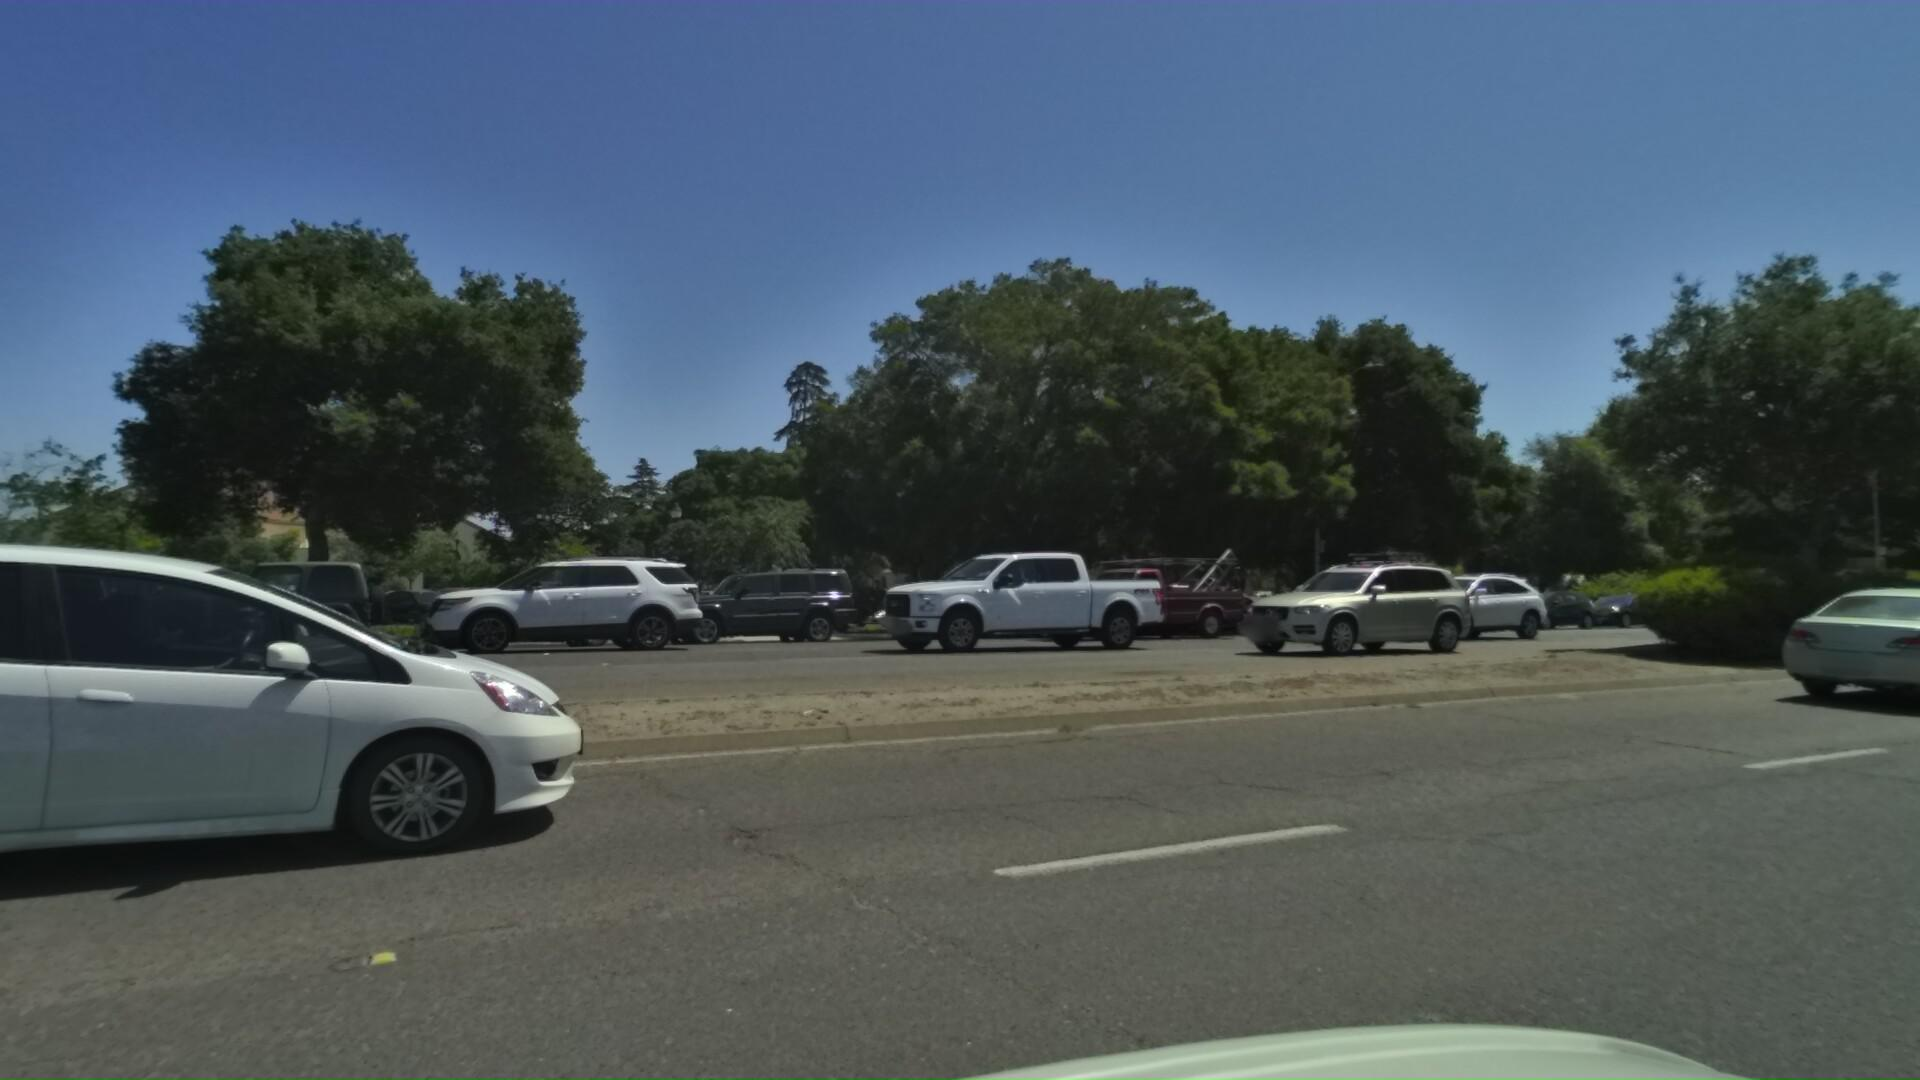car: (0, 481, 616, 975), (827, 541, 1145, 655), (382, 545, 680, 653), (83, 551, 367, 665), (1193, 541, 1456, 655), (0, 556, 220, 669), (1006, 535, 1240, 640), (621, 555, 839, 647), (1778, 582, 1920, 717), (375, 575, 615, 655), (0, 535, 95, 688), (1348, 562, 1534, 638), (1079, 580, 1253, 638), (1466, 583, 1589, 632), (1547, 583, 1663, 629), (0, 570, 15, 676)
